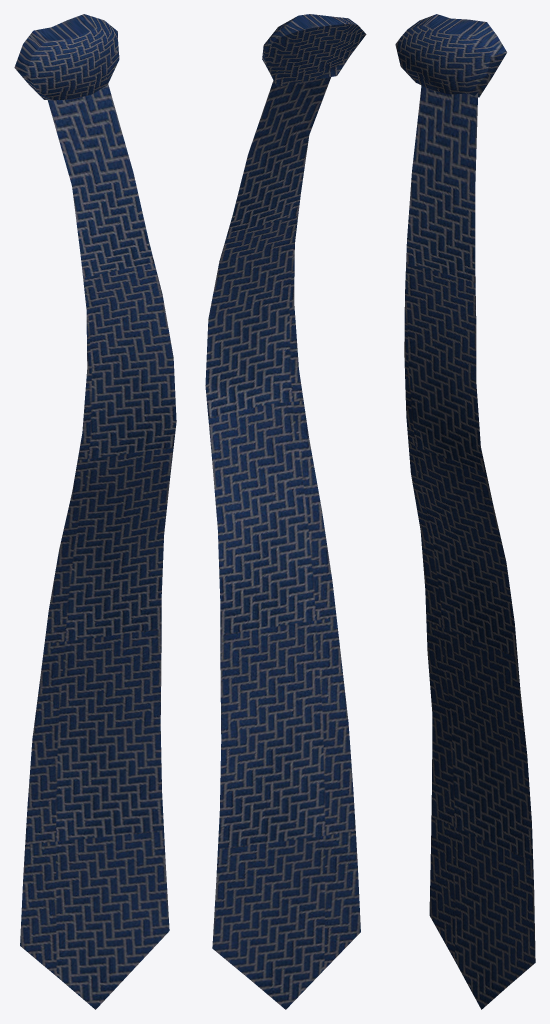
Rendered from Pose-7_Tie-3.fbx.
The picture shows the model from 3 angles, left to right: view 1: azimuth 30°, elevation 25°; view 2: azimuth 210°, elevation 25°; view 3: azimuth 330°, elevation 25°; orthographic projection.
Visible parts, largest first — view 1: Pose-7_Tie-3; view 2: Pose-7_Tie-3; view 3: Pose-7_Tie-3.
Boxes of the visible parts, x1,y1,x2,y2 form: Pose-7_Tie-3: (14, 14, 176, 1009); Pose-7_Tie-3: (205, 14, 366, 1009); Pose-7_Tie-3: (395, 14, 535, 1009).
Size of the model in its own units: 7.65 by 49.65 by 4.84.
